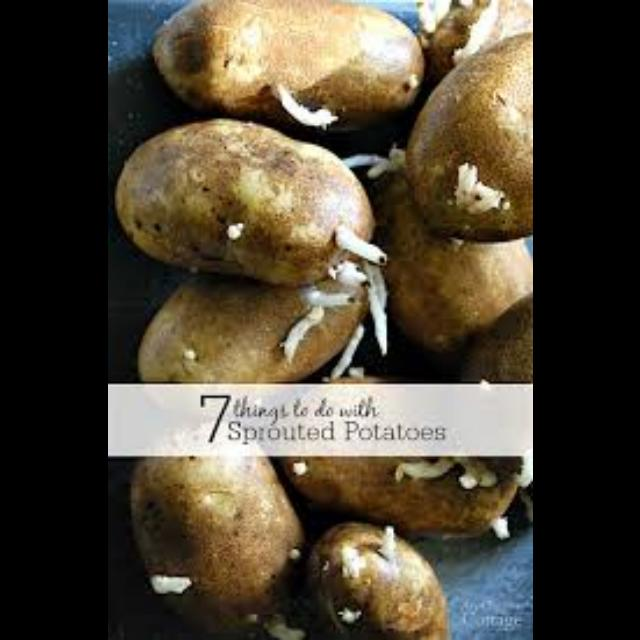Sprouted potato: (108, 90, 392, 298), (244, 346, 526, 536), (122, 420, 308, 640), (132, 0, 438, 132), (136, 247, 390, 398), (287, 514, 458, 640)
